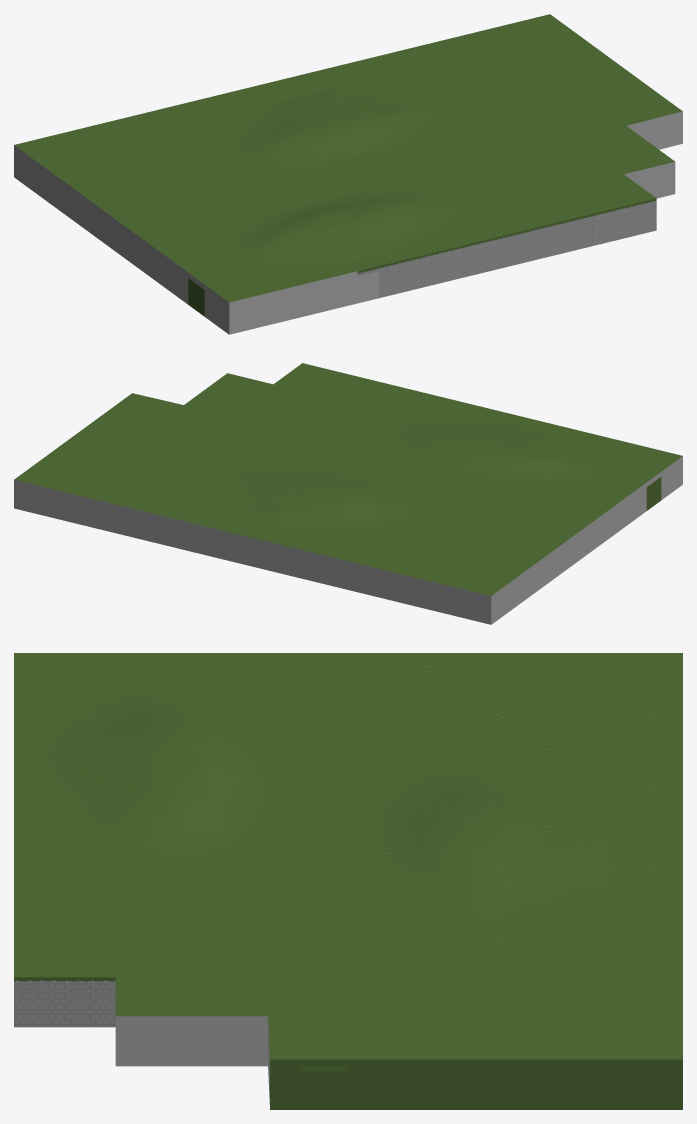
Rendered from LeftPlane.fbx.
3 renders of one model, top to bottom at view 1: azimuth 30°, elevation 25°; view 2: azimuth 150°, elevation 25°; view 3: azimuth 270°, elevation 25°, orthographic. The views are drawn at different scales.
Visible parts, largest first — view 1: LeftPlane; view 2: LeftPlane; view 3: LeftPlane.
Part boxes in pixels (left/top/right/bottom): LeftPlane: left=14, top=14, right=682, bottom=334; LeftPlane: left=14, top=363, right=682, bottom=624; LeftPlane: left=14, top=653, right=682, bottom=1109.
Bounding box in the file's own units: 29877 × 2006 × 20777.
Materials: 4 (3 with a texture image).
